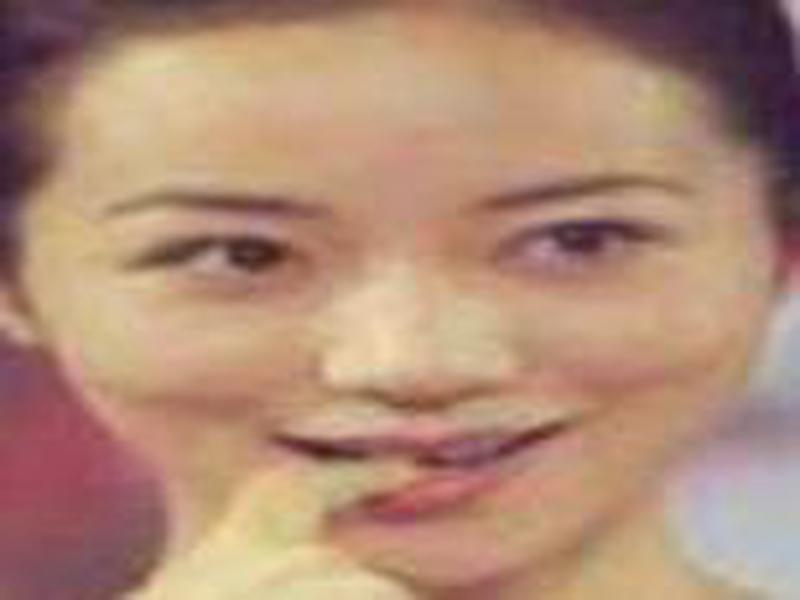without_mask: (21, 73, 791, 588)
